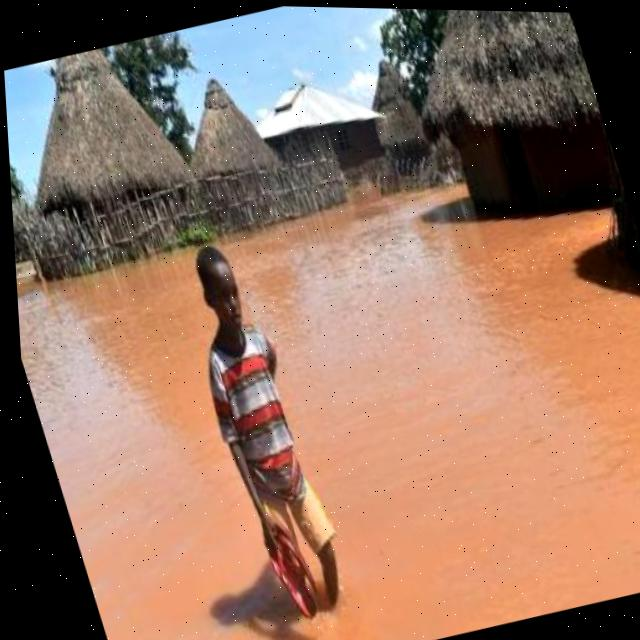civilian: (133, 207, 392, 640)
